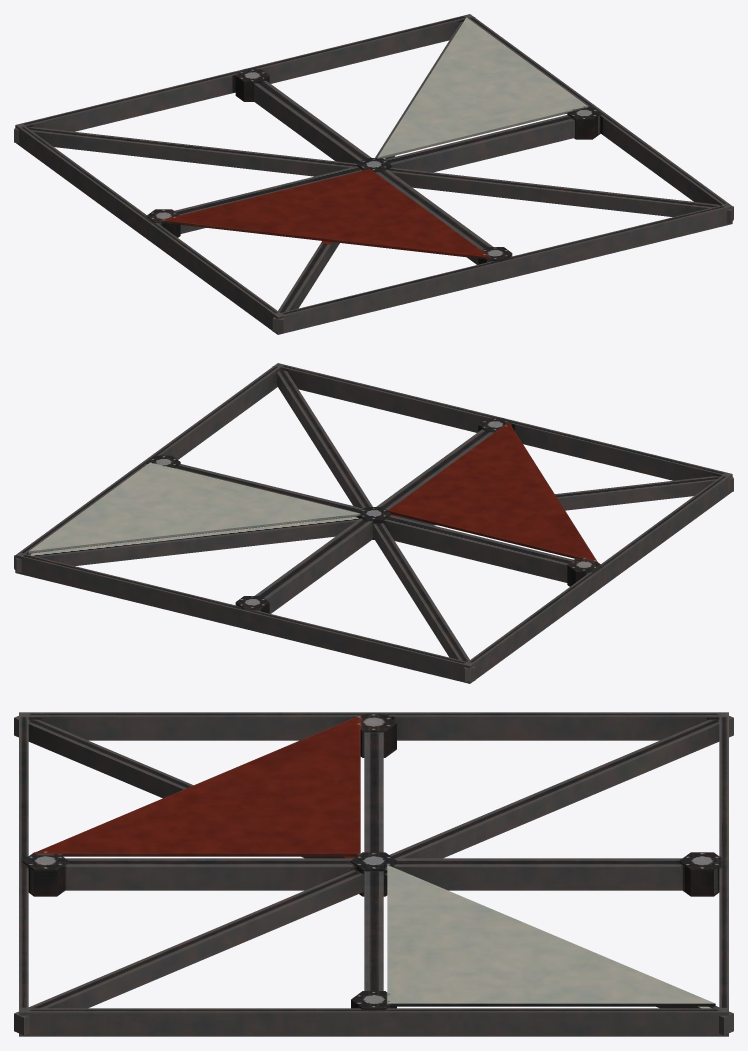
Rendered from dome_roof.glb.
3 views of the same model, one above another, from view 1: azimuth 30°, elevation 25°; view 2: azimuth 150°, elevation 25°; view 3: azimuth 270°, elevation 25° (orthographic). The views are drawn at different scales.
Visible parts, largest first — view 1: dome_roof; view 2: dome_roof; view 3: dome_roof.
Part boxes in pixels (x1=…): dome_roof: x1=14, y1=14, x2=733, y2=334; dome_roof: x1=14, y1=363, x2=733, y2=683; dome_roof: x1=14, y1=712, x2=733, y2=1036.
Bounding box in the file's own units: 8.11 × 0.36 × 8.11.
1 material, 1 textured.
